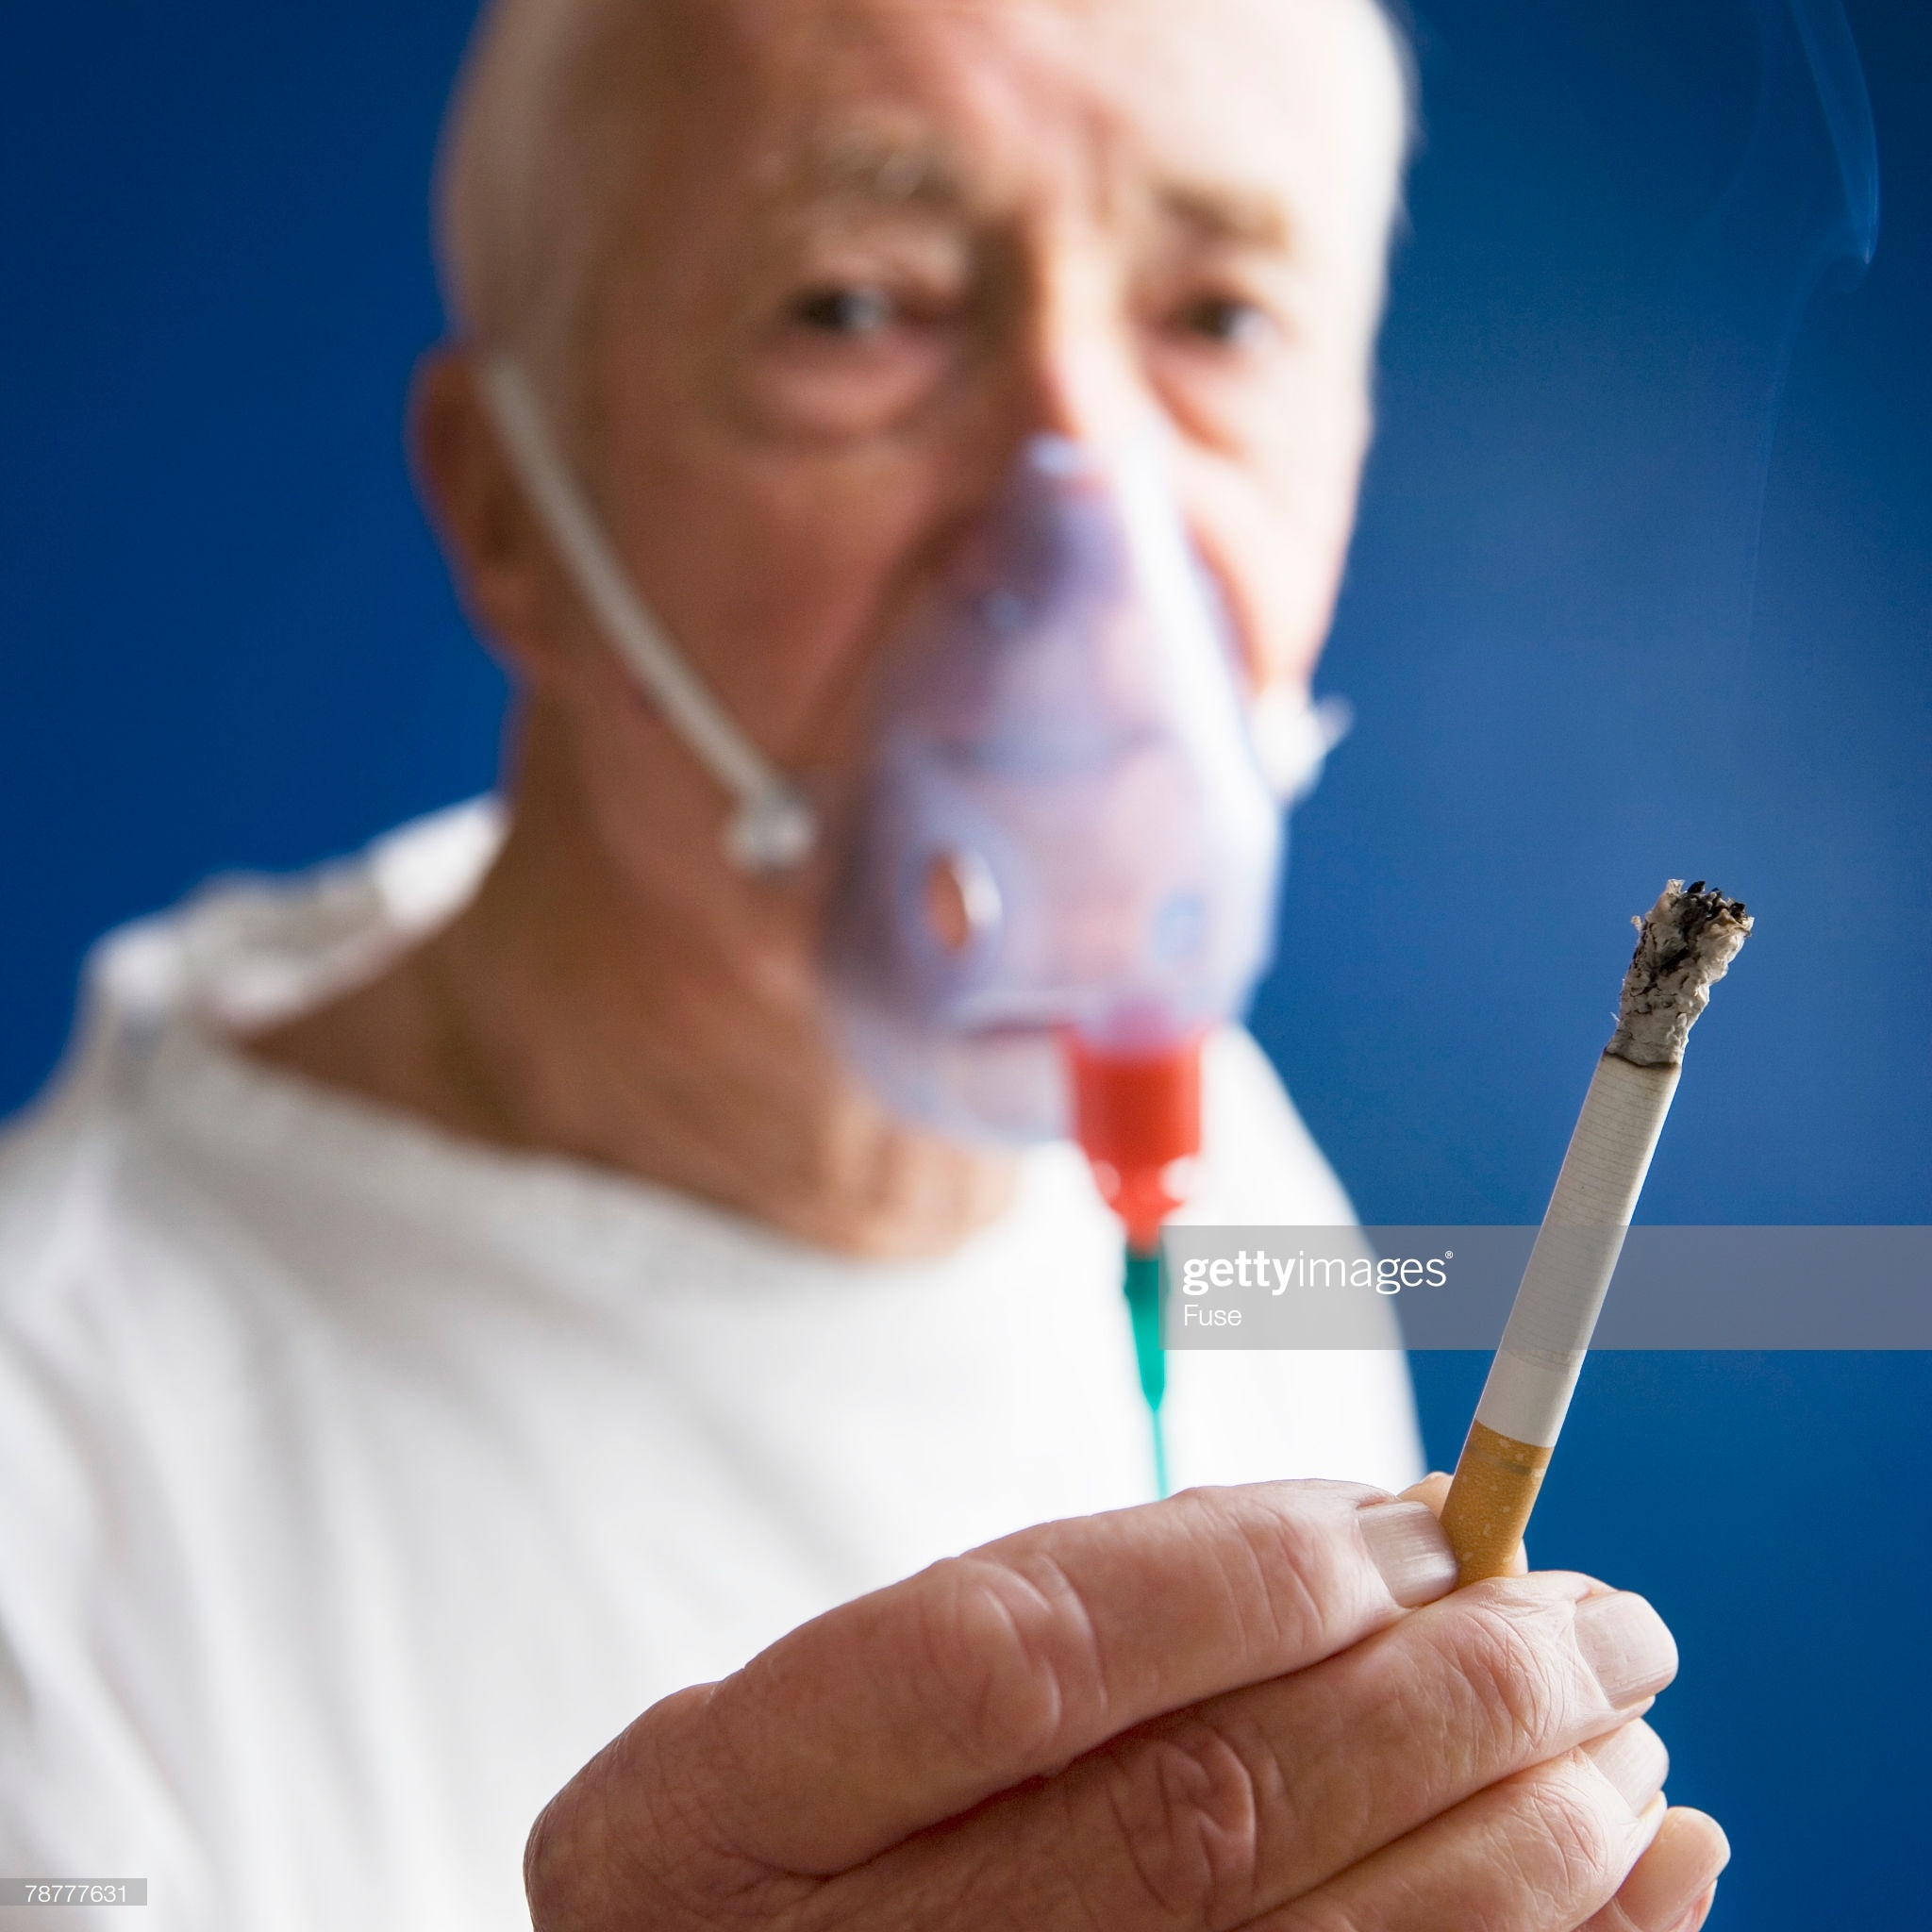sigaretta: (1442, 893, 1725, 1573)
